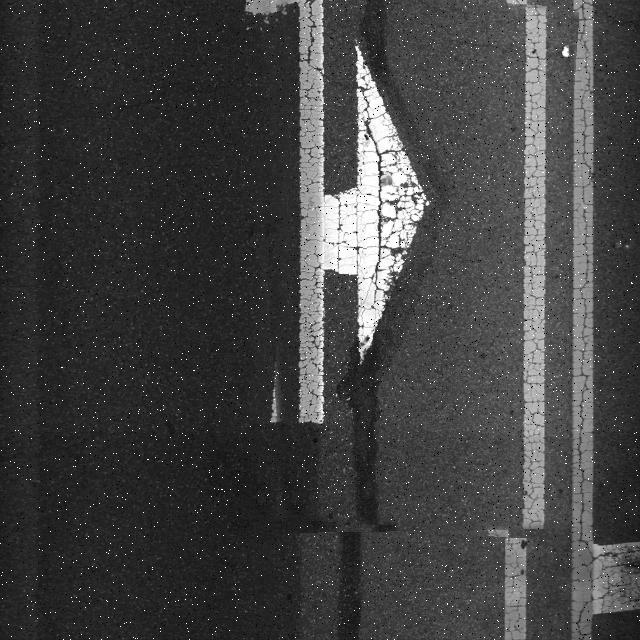forward_right: (249, 0, 569, 533)
